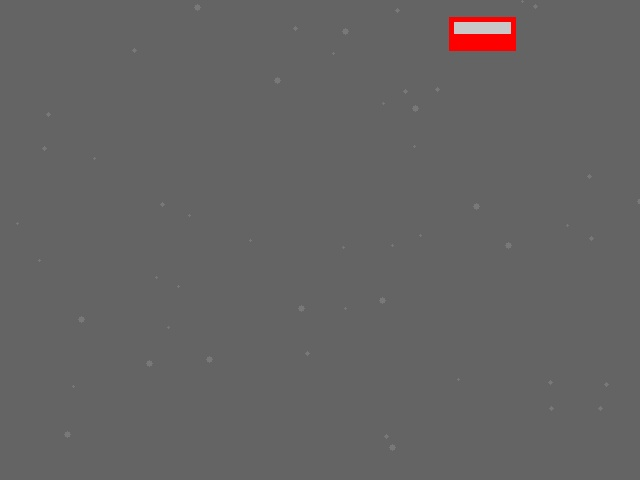car: (449, 17, 515, 50)
